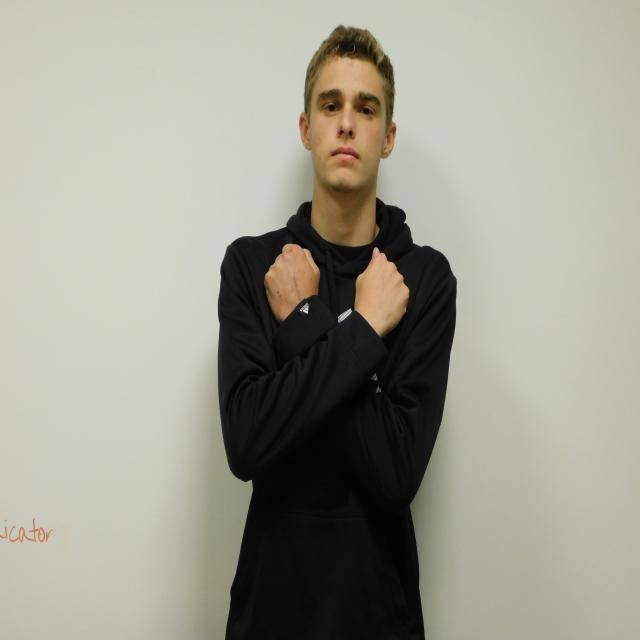love: (265, 244, 410, 333)
